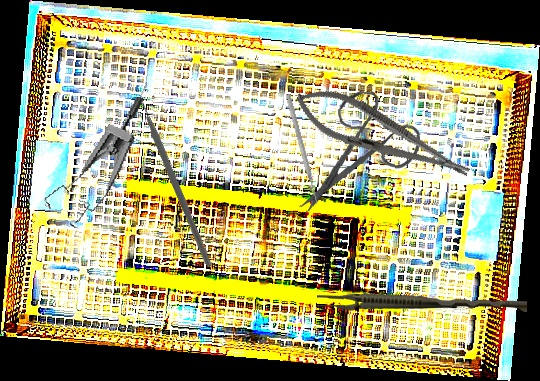Chopper: (79, 81, 277, 268)
Iris Scissors: (298, 86, 424, 225)
Needle Holder: (287, 76, 478, 195)
Pusher: (284, 94, 321, 205)
Speculum: (38, 79, 147, 238)
Tissue Forceps: (317, 293, 527, 312)
